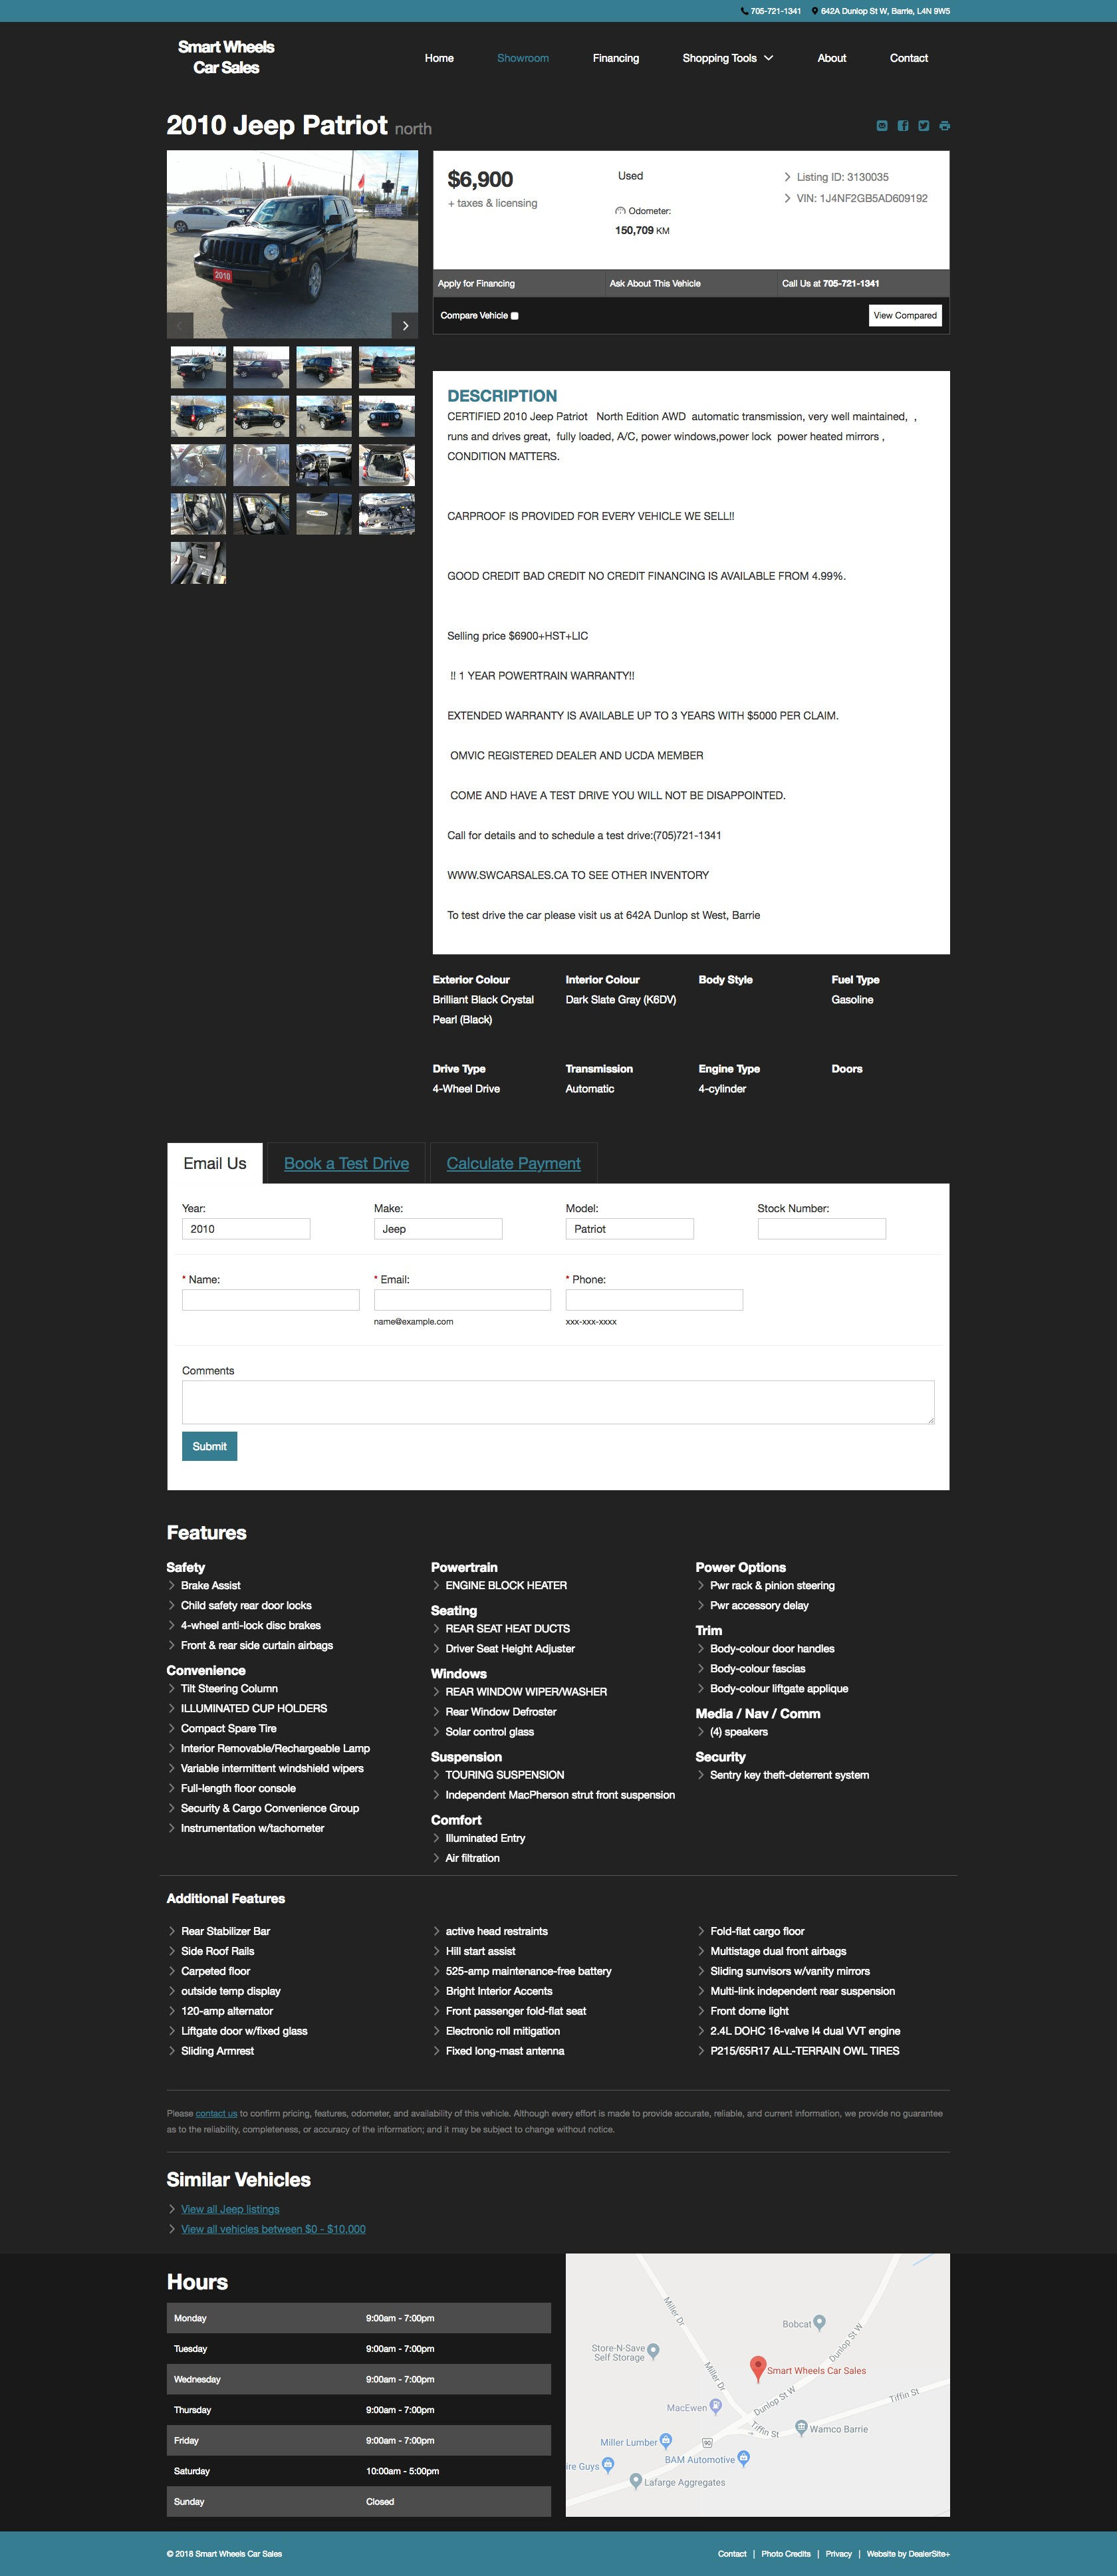car: (391, 312, 421, 342)
